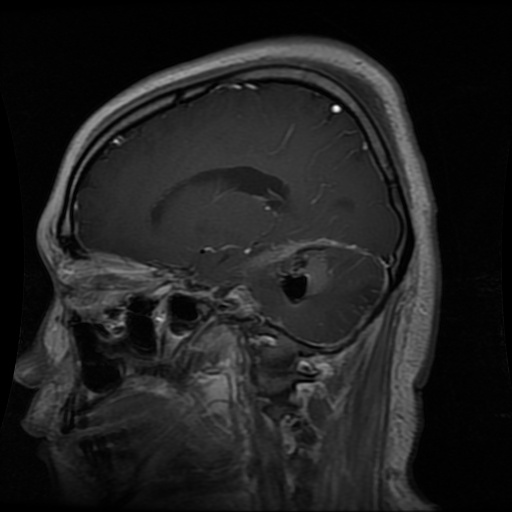glioma: (273, 243, 333, 305)
